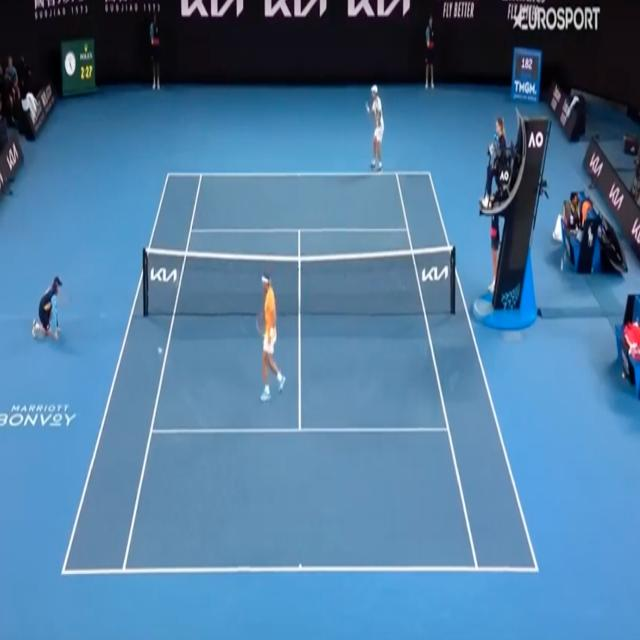ball: (157, 346, 163, 356)
